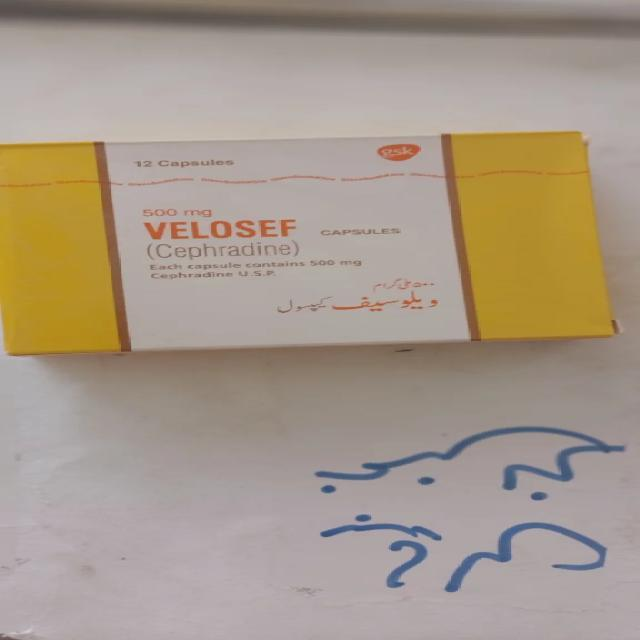drug-name: (145, 216, 299, 240)
